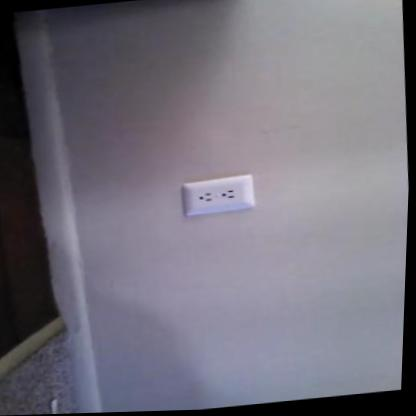OUTLET: (178, 172, 257, 219)
